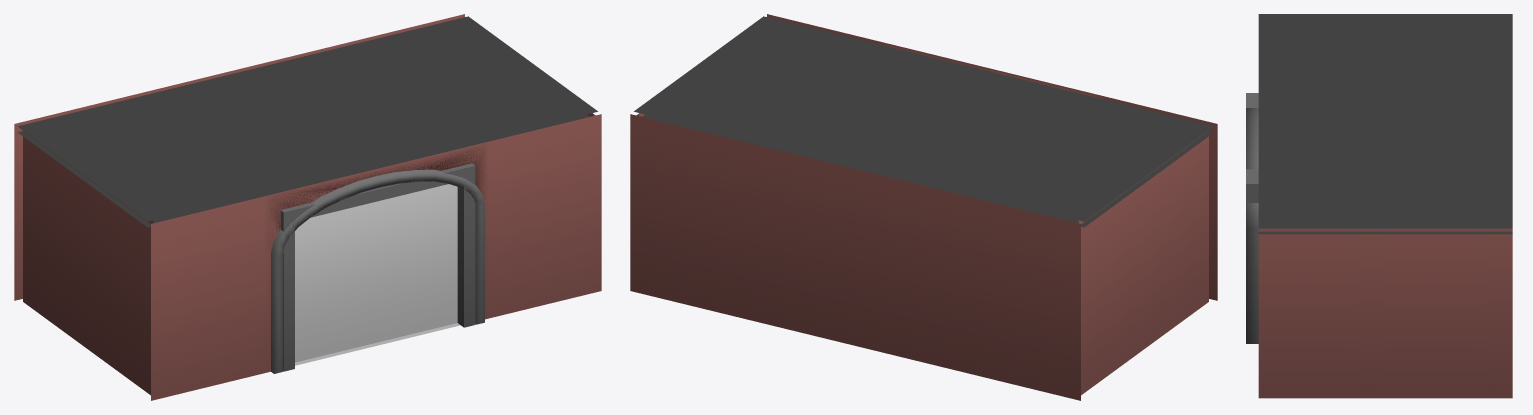
Rendered from loading-bay.glb.
3 renders of one model, left to right at view 1: azimuth 30°, elevation 25°; view 2: azimuth 150°, elevation 25°; view 3: azimuth 270°, elevation 25°, orthographic. The views are drawn at different scales.
Parts seen in each view (by area): view 1: Part_01_IndGarageArchWhite_GarageArchWhite, Part_03_IndWallFull_WallFull, Part_04_IndWallFull_WallFull, Part_10_IndWallFull_WallFull, Part_09_IndWallFull_WallFull, Part_02_IndGarageWhite_GarageWhite, Part_13_IndRoofDarkGreyFull_RoofDarkGreyFull, Part_17_IndRoofDarkGreyFull_RoofDarkGreyFull, Part_15_IndRoofDarkGreyFull_RoofDarkGreyFull, Part_14_IndRoofDarkGreyFull_RoofDarkGreyFull, Part_16_IndRoofDarkGreyFull_RoofDarkGreyFull, Part_19_IndRoofDarkGreyFull_RoofDarkGreyFull (+3 smaller); view 2: Part_06_IndWallFull_WallFull, Part_05_IndWallFull_WallFull, Part_08_IndWallFull_WallFull, Part_07_IndWallFull_WallFull, Part_09_IndWallFull_WallFull, Part_10_IndWallFull_WallFull, Part_17_IndRoofDarkGreyFull_RoofDarkGreyFull, Part_13_IndRoofDarkGreyFull_RoofDarkGreyFull, Part_19_IndRoofDarkGreyFull_RoofDarkGreyFull, Part_18_IndRoofDarkGreyFull_RoofDarkGreyFull, Part_20_IndRoofDarkGreyFull_RoofDarkGreyFull, Part_15_IndRoofDarkGreyFull_RoofDarkGreyFull (+4 smaller); view 3: Part_11_IndWallFull_WallFull, Part_12_IndWallFull_WallFull, Part_16_IndRoofDarkGreyFull_RoofDarkGreyFull, Part_20_IndRoofDarkGreyFull_RoofDarkGreyFull, Part_14_IndRoofDarkGreyFull_RoofDarkGreyFull, Part_18_IndRoofDarkGreyFull_RoofDarkGreyFull, Part_13_IndRoofDarkGreyFull_RoofDarkGreyFull, Part_15_IndRoofDarkGreyFull_RoofDarkGreyFull, Part_17_IndRoofDarkGreyFull_RoofDarkGreyFull, Part_19_IndRoofDarkGreyFull_RoofDarkGreyFull, Part_01_IndGarageArchWhite_GarageArchWhite, Part_02_IndGarageWhite_GarageWhite.
Boxes of the visible parts, x1,y1,x2,y2 form: Part_01_IndGarageArchWhite_GarageArchWhite: (263, 142, 488, 373); Part_03_IndWallFull_WallFull: (151, 196, 263, 400); Part_04_IndWallFull_WallFull: (489, 114, 601, 318); Part_10_IndWallFull_WallFull: (23, 130, 88, 349); Part_09_IndWallFull_WallFull: (88, 178, 153, 395); Part_02_IndGarageWhite_GarageWhite: (263, 141, 488, 372); Part_13_IndRoofDarkGreyFull_RoofDarkGreyFull: (83, 146, 259, 227); Part_17_IndRoofDarkGreyFull_RoofDarkGreyFull: (18, 99, 194, 179); Part_15_IndRoofDarkGreyFull_RoofDarkGreyFull: (308, 91, 485, 170); Part_14_IndRoofDarkGreyFull_RoofDarkGreyFull: (195, 119, 372, 197); Part_16_IndRoofDarkGreyFull_RoofDarkGreyFull: (421, 64, 597, 142); Part_19_IndRoofDarkGreyFull_RoofDarkGreyFull: (243, 44, 420, 118); Part_06_IndWallFull_WallFull: (855, 169, 968, 373); Part_05_IndWallFull_WallFull: (968, 196, 1080, 400); Part_08_IndWallFull_WallFull: (630, 114, 742, 318); Part_07_IndWallFull_WallFull: (743, 141, 855, 345); Part_09_IndWallFull_WallFull: (1143, 130, 1208, 349); Part_10_IndWallFull_WallFull: (1078, 178, 1143, 395); Part_17_IndRoofDarkGreyFull_RoofDarkGreyFull: (972, 146, 1148, 227); Part_13_IndRoofDarkGreyFull_RoofDarkGreyFull: (1037, 99, 1213, 179); Part_19_IndRoofDarkGreyFull_RoofDarkGreyFull: (746, 91, 923, 170); Part_18_IndRoofDarkGreyFull_RoofDarkGreyFull: (859, 119, 1036, 197); Part_20_IndRoofDarkGreyFull_RoofDarkGreyFull: (634, 64, 810, 142); Part_15_IndRoofDarkGreyFull_RoofDarkGreyFull: (811, 44, 988, 118); Part_11_IndWallFull_WallFull: (1258, 228, 1385, 398); Part_12_IndWallFull_WallFull: (1385, 228, 1512, 398); Part_16_IndRoofDarkGreyFull_RoofDarkGreyFull: (1258, 175, 1385, 234); Part_20_IndRoofDarkGreyFull_RoofDarkGreyFull: (1385, 175, 1512, 234); Part_14_IndRoofDarkGreyFull_RoofDarkGreyFull: (1258, 67, 1385, 121); Part_18_IndRoofDarkGreyFull_RoofDarkGreyFull: (1385, 67, 1512, 121); Part_13_IndRoofDarkGreyFull_RoofDarkGreyFull: (1258, 14, 1385, 67); Part_15_IndRoofDarkGreyFull_RoofDarkGreyFull: (1258, 121, 1385, 174); Part_17_IndRoofDarkGreyFull_RoofDarkGreyFull: (1385, 14, 1512, 67); Part_19_IndRoofDarkGreyFull_RoofDarkGreyFull: (1385, 121, 1512, 174); Part_01_IndGarageArchWhite_GarageArchWhite: (1246, 108, 1258, 343); Part_02_IndGarageWhite_GarageWhite: (1246, 93, 1258, 202).
Bounding box in the file's own units: 8 × 3 × 4.3.
20 materials, 20 textured.
